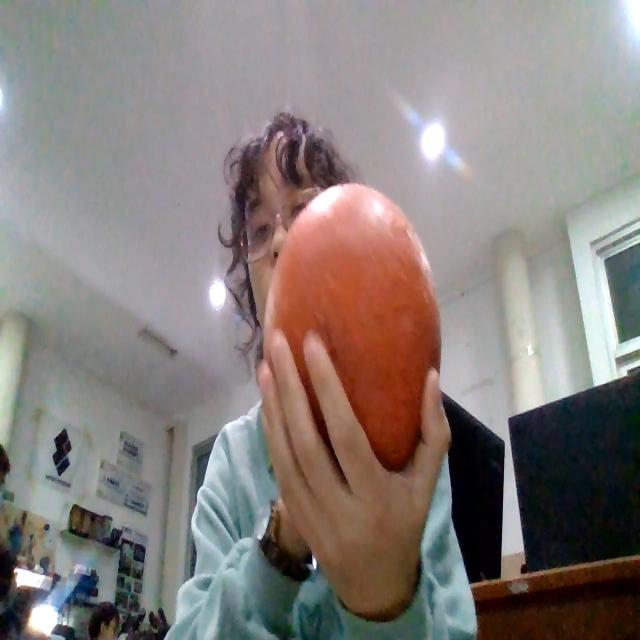ball: (263, 180, 443, 474)
